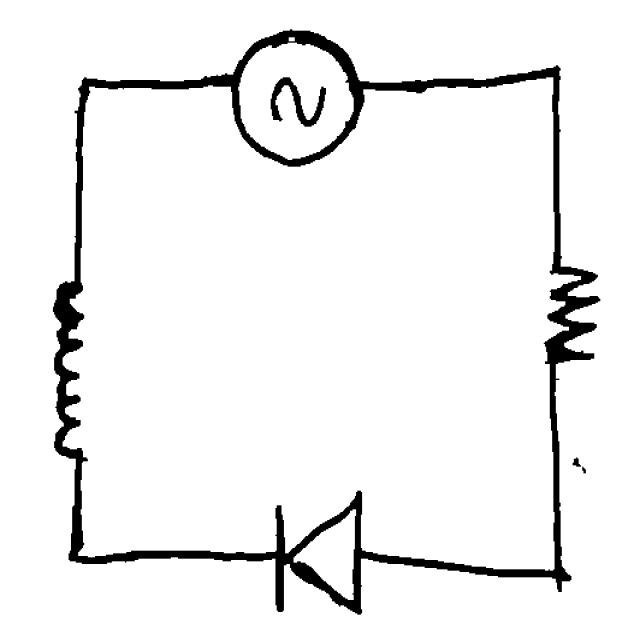ac: (215, 21, 366, 172)
diode: (260, 478, 382, 628)
inductor: (40, 264, 104, 476)
resistor: (530, 246, 614, 388)
